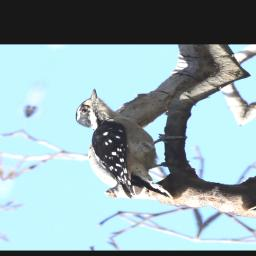Woodpecker: (46, 85, 209, 206)
